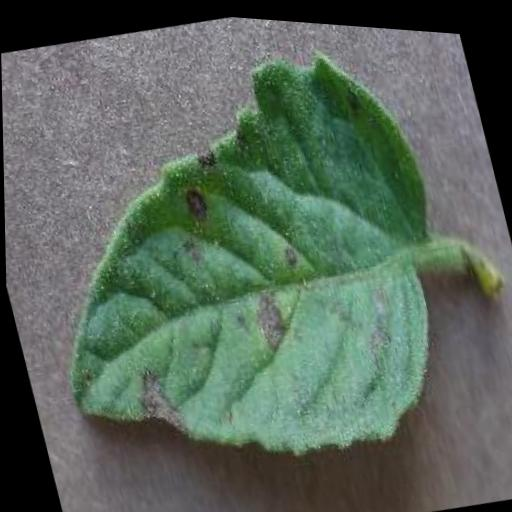Early Blight: (0, 12, 487, 508)
